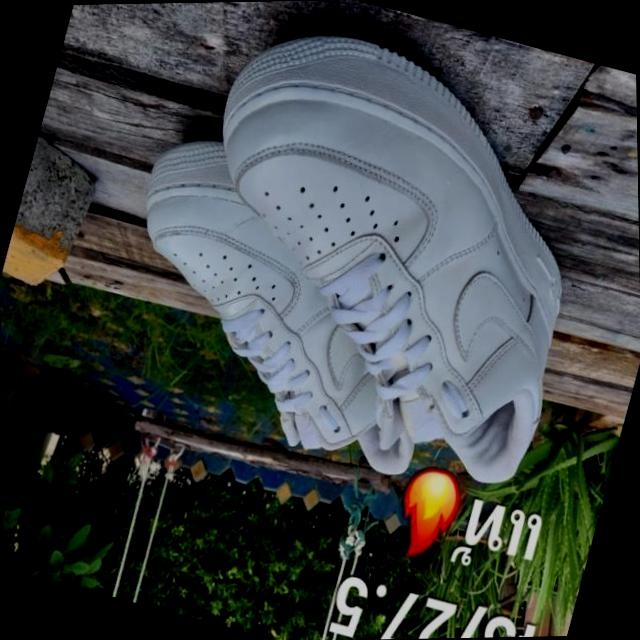nike_original_airforce: (136, 1, 628, 493), (78, 116, 480, 488)
